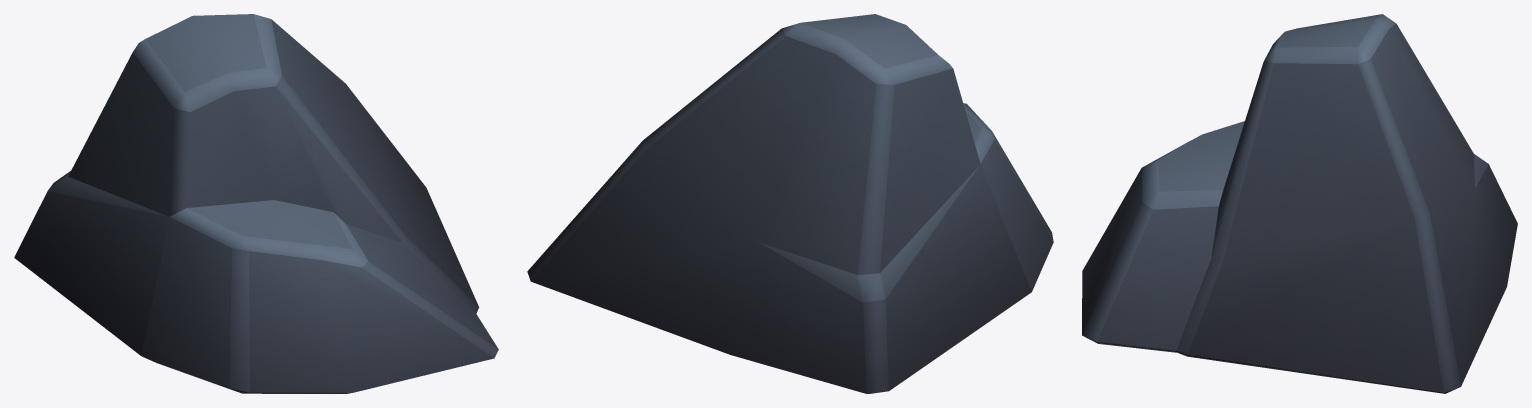
Rendered from Tree.fbx.
The picture shows the model from 3 angles, left to right: view 1: azimuth 30°, elevation 25°; view 2: azimuth 150°, elevation 25°; view 3: azimuth 270°, elevation 25°; orthographic projection. The views are drawn at different scales.
Visible parts, largest first — view 1: Tree; view 2: Tree; view 3: Tree.
Boxes of the visible parts, x1=… form: Tree: x1=14, y1=14, x2=498, y2=393; Tree: x1=527, y1=14, x2=1053, y2=393; Tree: x1=1082, y1=14, x2=1517, y2=393.
Size of the model in its own units: 144 by 97.15 by 150.
